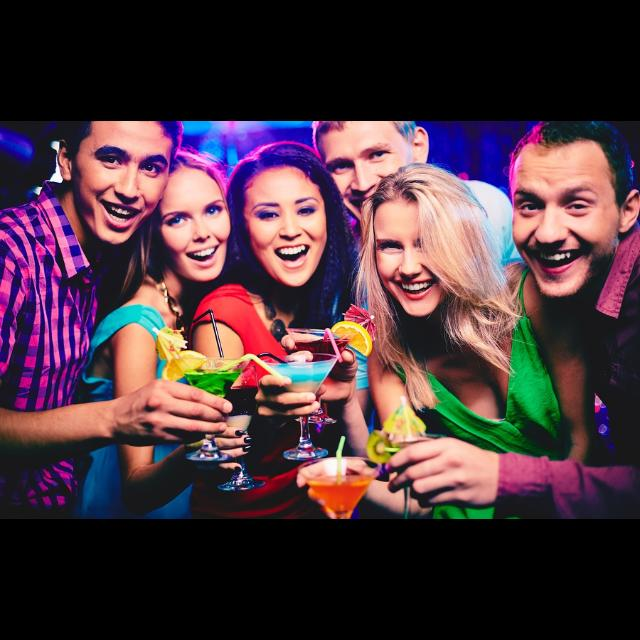head: (54, 121, 184, 245), (371, 162, 464, 322), (366, 174, 466, 320), (310, 120, 438, 230), (141, 152, 233, 284), (239, 157, 331, 289)
